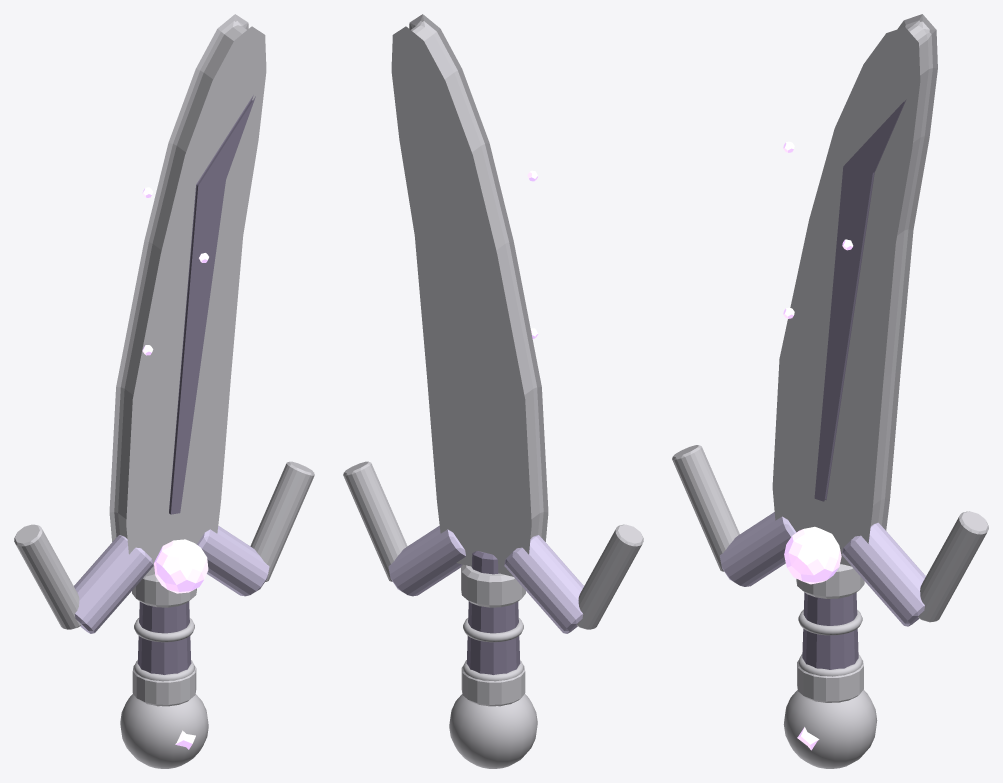
File: dual-pair-05-moonlit-phantom.glb
3 views of the same model, side by side, from view 1: azimuth 30°, elevation 25°; view 2: azimuth 150°, elevation 25°; view 3: azimuth 330°, elevation 25° (orthographic). The views are drawn at different scales.
Visible parts, largest first — view 1: dual-pair-05-moonlit-phantom_ForgedBlade.001, dual-pair-05-moonlit-phantom_ColoredFuller.001, dual-pair-05-moonlit-phantom_Pommel.001, dual-pair-05-moonlit-phantom_Guard_Left.001, dual-pair-05-moonlit-phantom_Guard_LeftTip.001, dual-pair-05-moonlit-phantom_Guard_RightTip.001, dual-pair-05-moonlit-phantom_Guard_Right.001, dual-pair-05-moonlit-phantom_LeatherGrip.001, dual-pair-05-moonlit-phantom_GuardGem.001, dual-pair-05-moonlit-phantom_LowerFerrule.001, dual-pair-05-moonlit-phantom_UpperFerrule.001, dual-pair-05-moonlit-phantom_GripBinding_2.001; view 2: dual-pair-05-moonlit-phantom_ForgedBlade.001, dual-pair-05-moonlit-phantom_Pommel.001, dual-pair-05-moonlit-phantom_Guard_Left.001, dual-pair-05-moonlit-phantom_LeatherGrip.001, dual-pair-05-moonlit-phantom_Guard_Right.001, dual-pair-05-moonlit-phantom_Guard_LeftTip.001, dual-pair-05-moonlit-phantom_Guard_RightTip.001, dual-pair-05-moonlit-phantom_UpperFerrule.001, dual-pair-05-moonlit-phantom_LowerFerrule.001, dual-pair-05-moonlit-phantom_GripBinding_2.001; view 3: dual-pair-05-moonlit-phantom_ForgedBlade.001, dual-pair-05-moonlit-phantom_ColoredFuller.001, dual-pair-05-moonlit-phantom_Pommel.001, dual-pair-05-moonlit-phantom_Guard_Right.001, dual-pair-05-moonlit-phantom_Guard_RightTip.001, dual-pair-05-moonlit-phantom_Guard_LeftTip.001, dual-pair-05-moonlit-phantom_Guard_Left.001, dual-pair-05-moonlit-phantom_LeatherGrip.001, dual-pair-05-moonlit-phantom_GuardGem.001, dual-pair-05-moonlit-phantom_LowerFerrule.001, dual-pair-05-moonlit-phantom_UpperFerrule.001, dual-pair-05-moonlit-phantom_GripBinding_2.001 (+1 smaller).
Part boxes in pixels (bbox=[...]): dual-pair-05-moonlit-phantom_ForgedBlade.001: bbox=[109, 14, 266, 576]; dual-pair-05-moonlit-phantom_ColoredFuller.001: bbox=[169, 95, 255, 514]; dual-pair-05-moonlit-phantom_Pommel.001: bbox=[120, 694, 208, 768]; dual-pair-05-moonlit-phantom_Guard_Left.001: bbox=[74, 535, 153, 633]; dual-pair-05-moonlit-phantom_Guard_LeftTip.001: bbox=[14, 524, 81, 629]; dual-pair-05-moonlit-phantom_Guard_RightTip.001: bbox=[250, 461, 314, 581]; dual-pair-05-moonlit-phantom_Guard_Right.001: bbox=[197, 526, 269, 596]; dual-pair-05-moonlit-phantom_LeatherGrip.001: bbox=[137, 601, 191, 674]; dual-pair-05-moonlit-phantom_GuardGem.001: bbox=[154, 539, 208, 593]; dual-pair-05-moonlit-phantom_LowerFerrule.001: bbox=[132, 665, 196, 706]; dual-pair-05-moonlit-phantom_UpperFerrule.001: bbox=[132, 574, 196, 607]; dual-pair-05-moonlit-phantom_GripBinding_2.001: bbox=[134, 618, 194, 642]; dual-pair-05-moonlit-phantom_ForgedBlade.001: bbox=[391, 14, 548, 576]; dual-pair-05-moonlit-phantom_Pommel.001: bbox=[449, 694, 537, 768]; dual-pair-05-moonlit-phantom_Guard_Left.001: bbox=[504, 535, 583, 633]; dual-pair-05-moonlit-phantom_LeatherGrip.001: bbox=[466, 551, 520, 674]; dual-pair-05-moonlit-phantom_Guard_Right.001: bbox=[388, 526, 465, 596]; dual-pair-05-moonlit-phantom_Guard_LeftTip.001: bbox=[576, 524, 643, 629]; dual-pair-05-moonlit-phantom_Guard_RightTip.001: bbox=[343, 461, 407, 581]; dual-pair-05-moonlit-phantom_UpperFerrule.001: bbox=[461, 564, 525, 607]; dual-pair-05-moonlit-phantom_LowerFerrule.001: bbox=[461, 665, 525, 706]; dual-pair-05-moonlit-phantom_GripBinding_2.001: bbox=[463, 618, 523, 642]; dual-pair-05-moonlit-phantom_ForgedBlade.001: bbox=[772, 14, 937, 566]; dual-pair-05-moonlit-phantom_ColoredFuller.001: bbox=[814, 99, 906, 501]; dual-pair-05-moonlit-phantom_Pommel.001: bbox=[783, 690, 877, 768]; dual-pair-05-moonlit-phantom_Guard_Right.001: bbox=[841, 522, 925, 626]; dual-pair-05-moonlit-phantom_Guard_RightTip.001: bbox=[918, 511, 988, 622]; dual-pair-05-moonlit-phantom_Guard_LeftTip.001: bbox=[672, 445, 739, 571]; dual-pair-05-moonlit-phantom_Guard_Left.001: bbox=[720, 512, 796, 586]; dual-pair-05-moonlit-phantom_LeatherGrip.001: bbox=[802, 592, 858, 669]; dual-pair-05-moonlit-phantom_GuardGem.001: bbox=[784, 526, 841, 584]; dual-pair-05-moonlit-phantom_LowerFerrule.001: bbox=[797, 659, 863, 702]; dual-pair-05-moonlit-phantom_UpperFerrule.001: bbox=[796, 564, 864, 598]; dual-pair-05-moonlit-phantom_GripBinding_2.001: bbox=[798, 609, 862, 635].
Size of the model in its own units: 0.4221 by 0.9889 by 0.1286.
